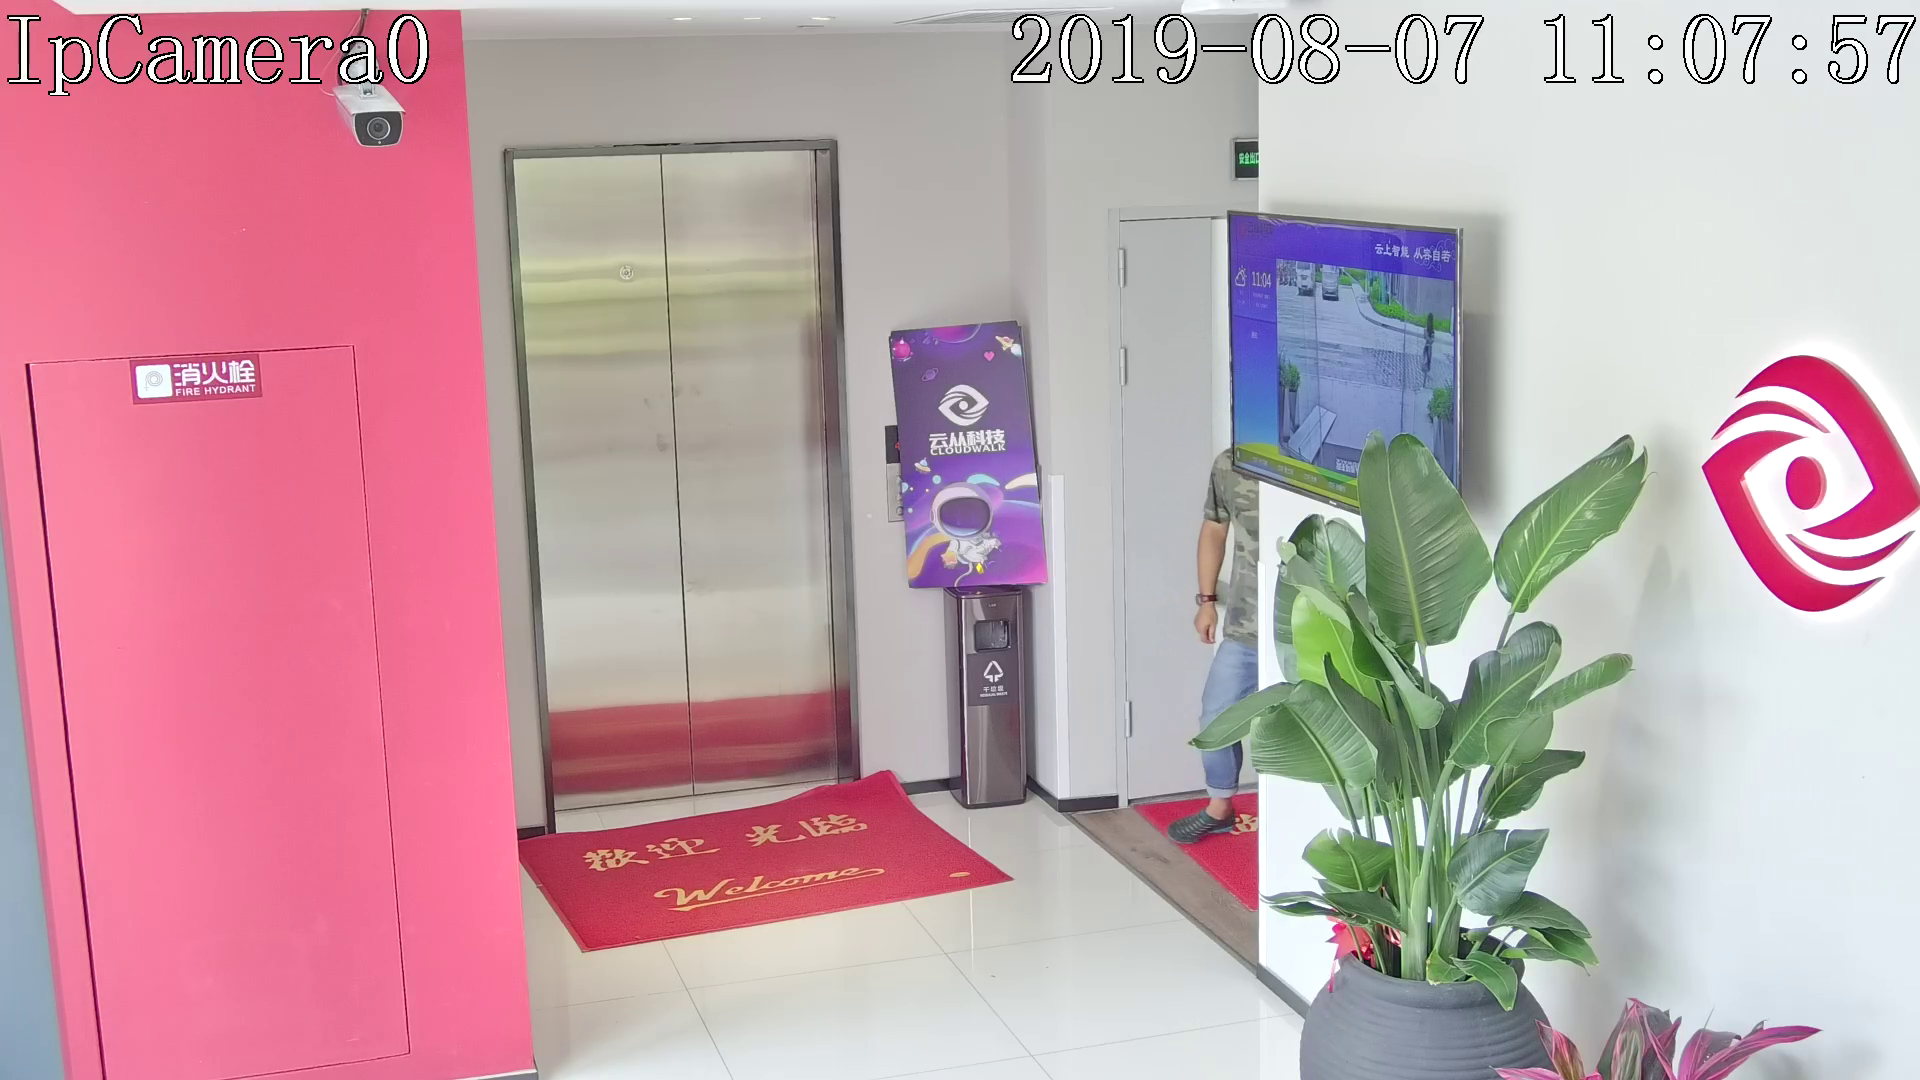bill: (881, 320, 1052, 592)
